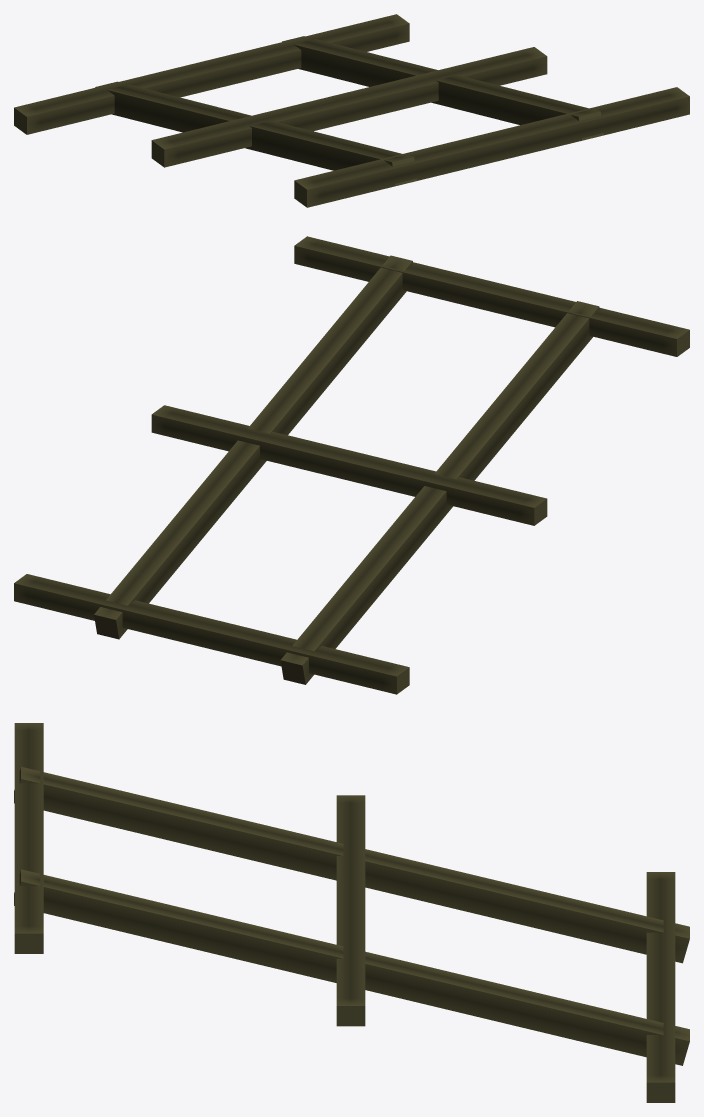
The model's file is roof_beam_v1b001.fbx.
3 renders of one model, top to bottom at view 1: azimuth 30°, elevation 25°; view 2: azimuth 150°, elevation 25°; view 3: azimuth 270°, elevation 25°, orthographic. The views are drawn at different scales.
Parts seen in each view (by area): view 1: roof_beam_v1b001; view 2: roof_beam_v1b001; view 3: roof_beam_v1b001.
Boxes of the visible parts, box(x1,y1,x2,y2) form: roof_beam_v1b001: box(14, 14, 689, 207); roof_beam_v1b001: box(14, 236, 689, 694); roof_beam_v1b001: box(14, 723, 689, 1102).
Size of the model in its own units: 465 by 190 by 631.
